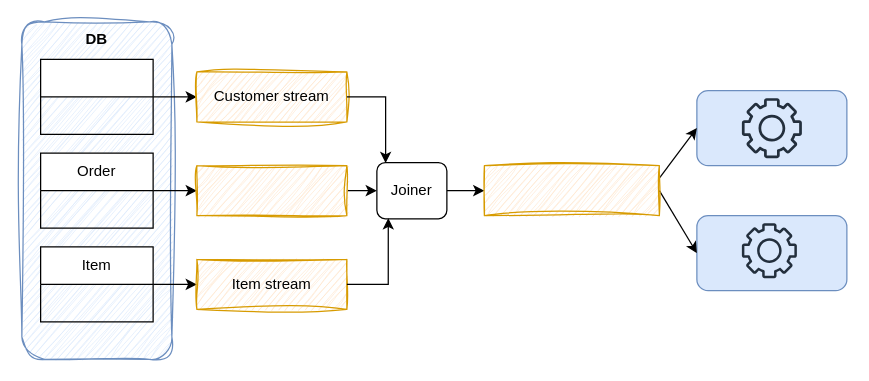
This 869x381 diagram has some shape labels left out. The shapes that lost their labels are listed below. From the top down, each one's centre as x and y in pixels, then its label:
(x=96, y=96): Customer
(x=271, y=190): Order stream
(x=571, y=190): denormalized stream
